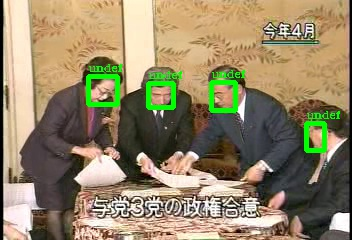man: (207, 64, 245, 110), (140, 65, 178, 109), (310, 106, 346, 150)
woman: (81, 55, 122, 102)
